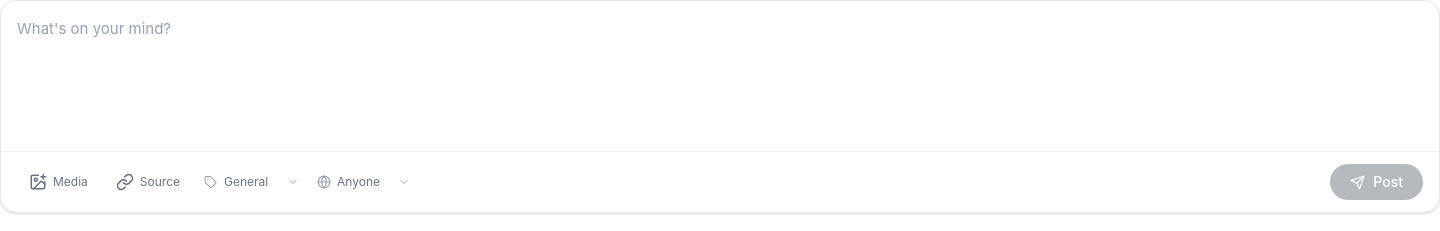
CreatePostBox › enables post button with valid content
The image size is (1440, 231).
Type "Hello world" into the text box with placeholder "What's on your mind?" at (720, 77), box [17,17,1423,137]
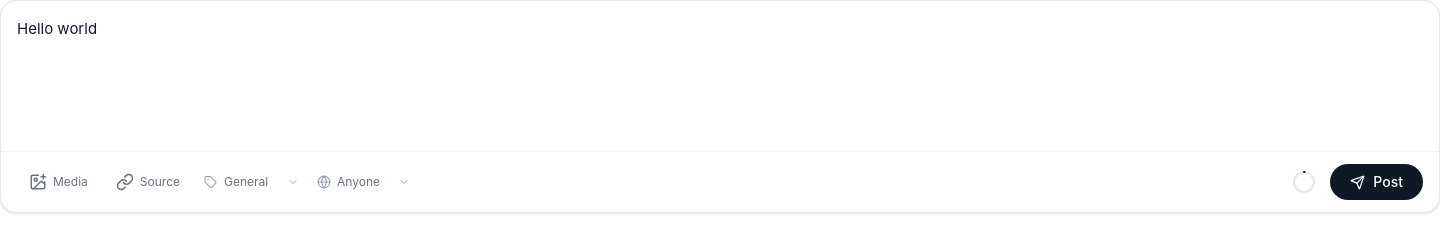
Expected: the button "Post" is enabled, [1330,164,1423,200]
